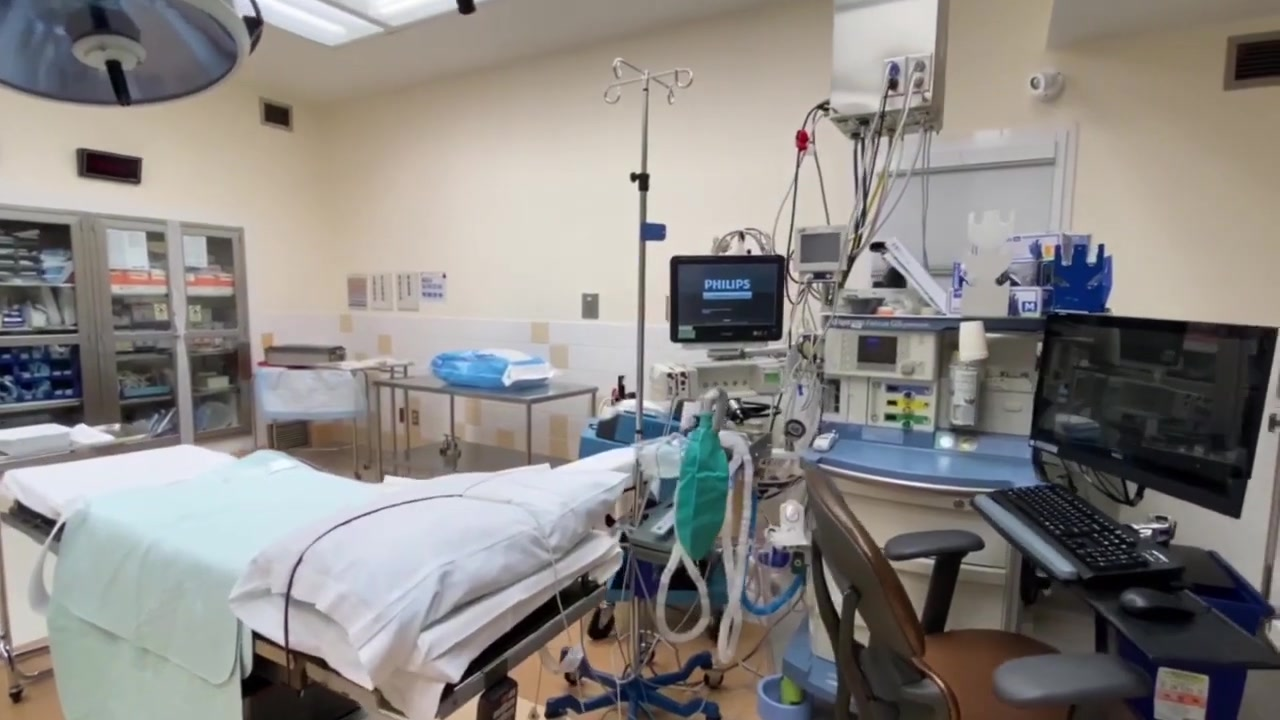bedside_monitor: (667, 254, 784, 343), (792, 223, 846, 277)
breathing_tube: (657, 416, 798, 664)
cabinet: (1, 203, 258, 436)
chair: (802, 462, 1152, 720)
computer: (1029, 311, 1280, 521)
electrosurgical_unit: (598, 401, 682, 444)
iv_pole: (605, 59, 693, 680)
keyboard: (973, 484, 1153, 579)
medical_drawer: (798, 422, 1038, 634)
mouse: (1118, 590, 1196, 625)
operating_bed: (6, 449, 622, 716)
surgical_light: (1, 1, 262, 106)
utility_cart: (374, 370, 597, 484), (317, 354, 412, 481)
